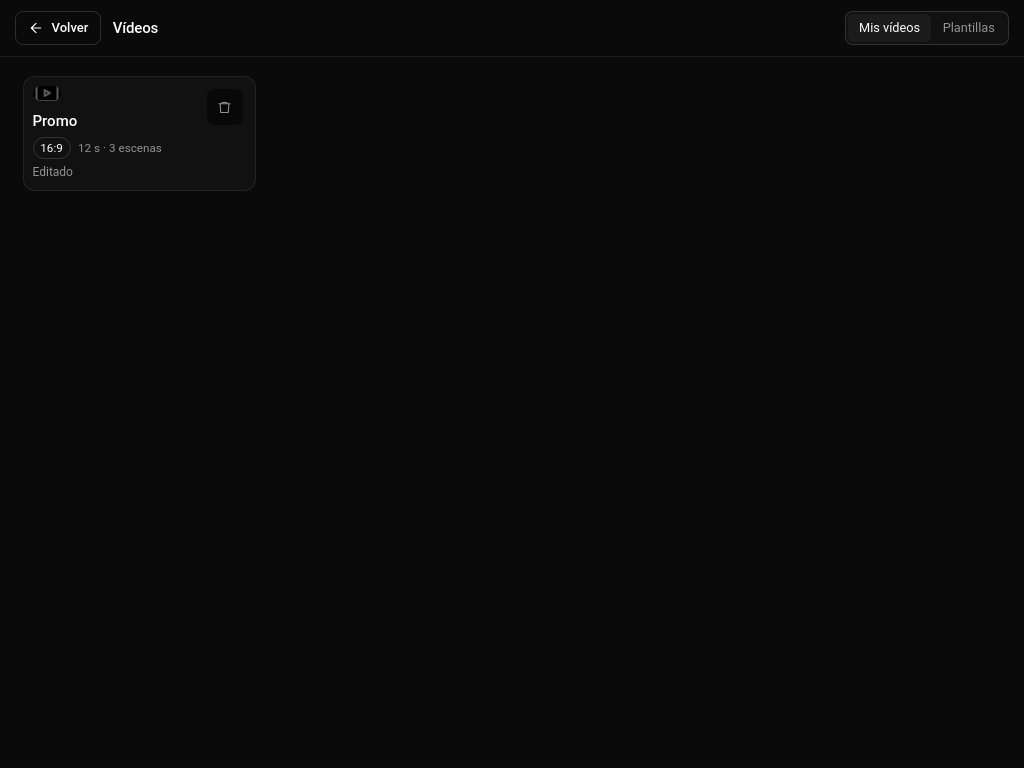
Scenario: VideosSurface › lists, opens and deletes (after confirming) the user's videos
The image size is (1024, 768).
Later steps or results of the test are not shown.
Click the button with aria-label "Abrir Promo". click: coordinates (139, 133)
box: [22,76,256,191]
Click the button named "Eliminar Promo". click: coordinates (224, 107)
box: [206,89,242,125]
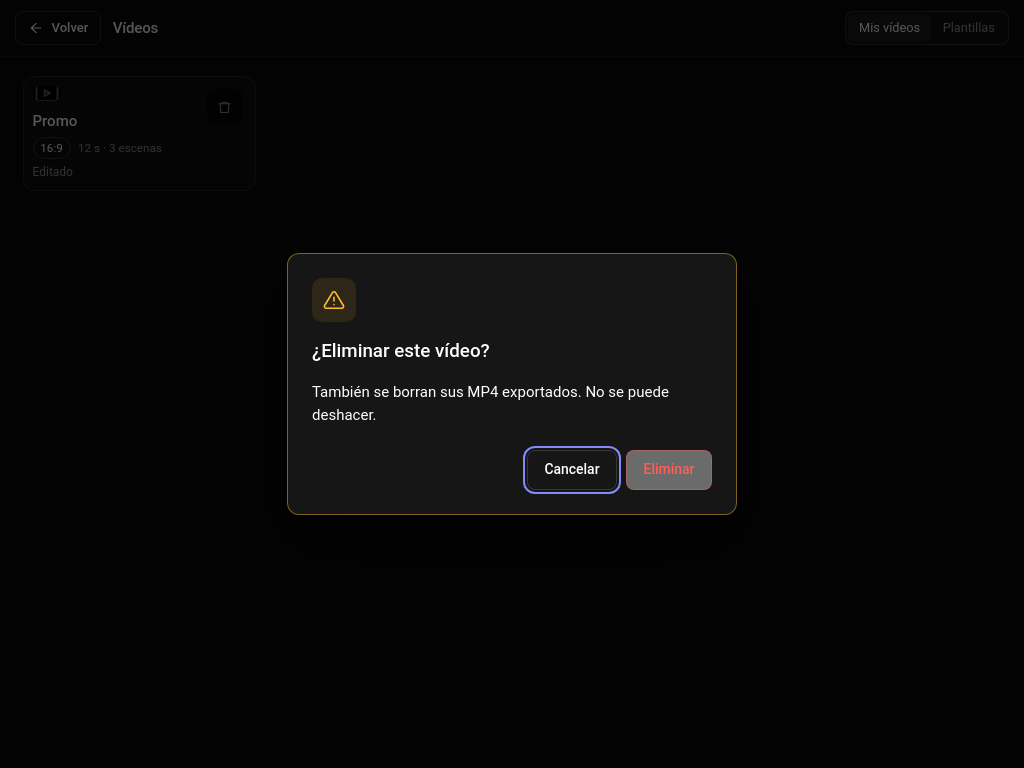
expect the button "Cancelar" is shown: met, box [527,450,617,490]
Press Escape
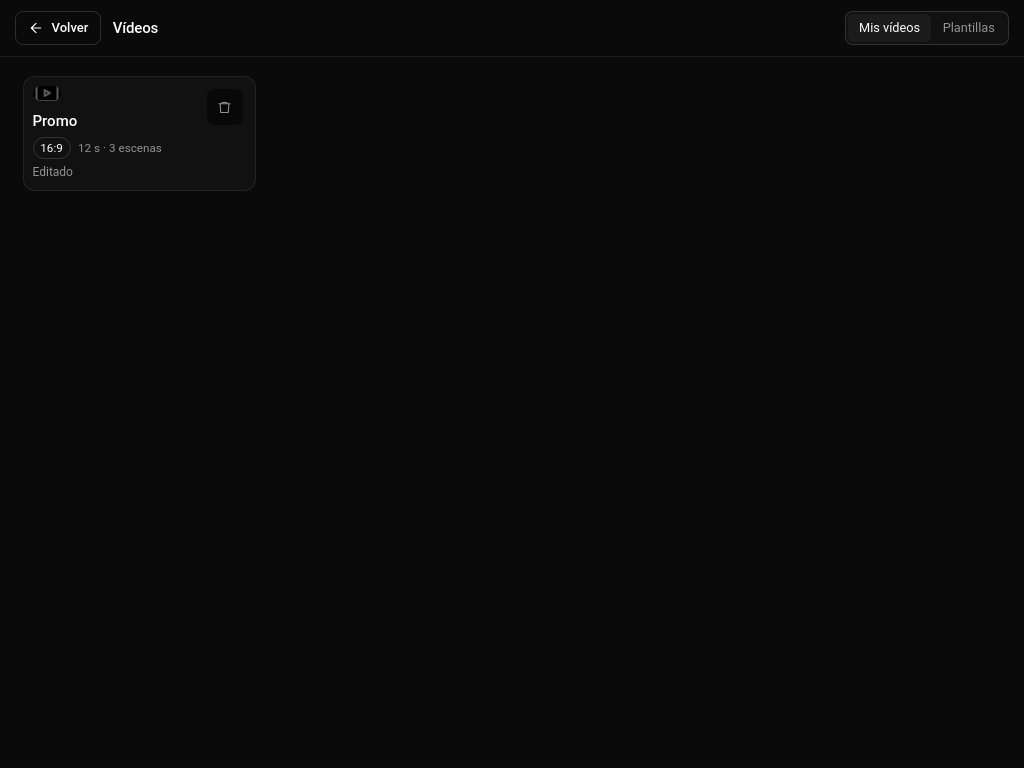
expect the dialog is gone: met
